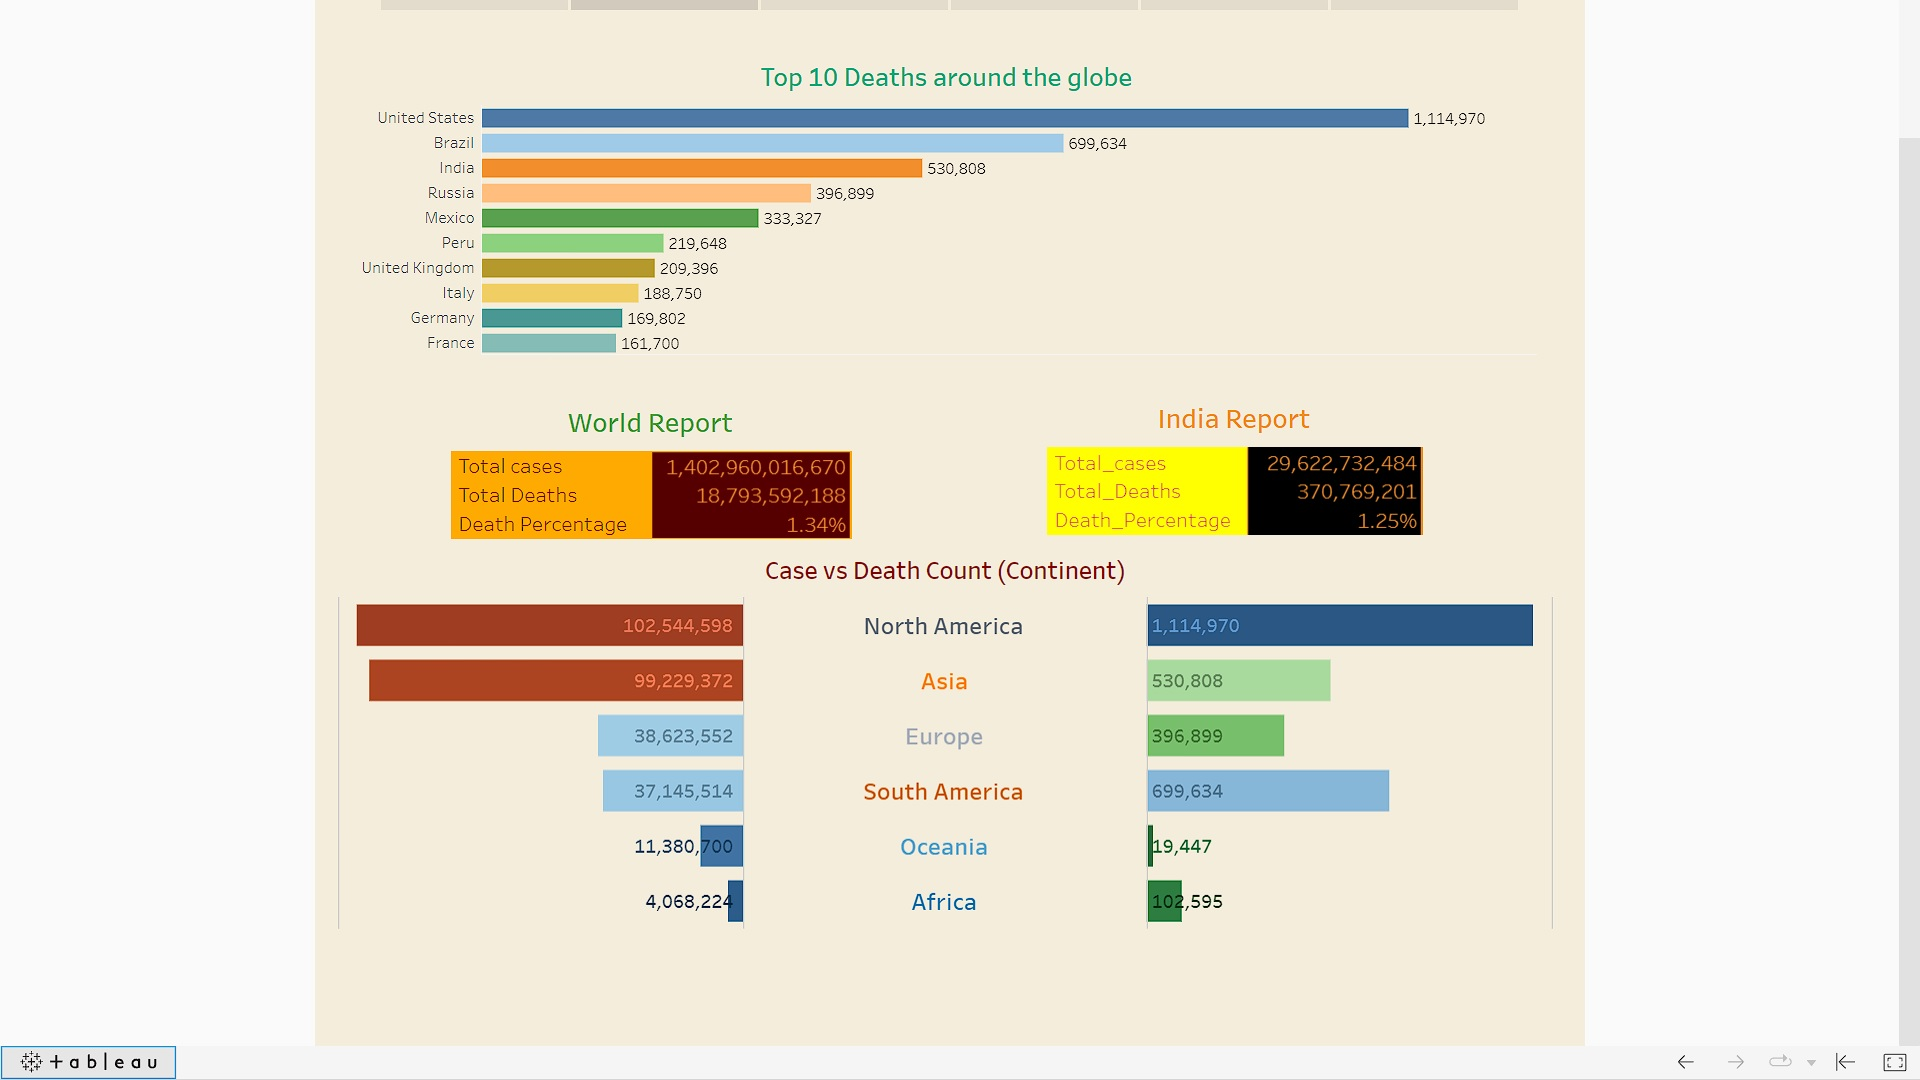

What the dashboard file says about the page in this screenshot:
{"tool":"tableau","page":{"name":"Dashboard 1","canvas":[1000,800],"ordinal":0},"visuals":[{"type":"worksheet","title":"Death Count","mark":"Automatic","rows":["Location"],"cols":["TotalDeathCount"],"box":[25,22,945,266]},{"type":"worksheet","title":"India","mark":"Automatic","box":[577,294,401,120]},{"type":"worksheet","title":"World","mark":"Automatic","box":[100,297,366,122]},{"type":"worksheet","title":"Case vs Death Count","mark":"Automatic","rows":["Continent"],"cols":["TotalCaseCount","Calculation_1441714843042181120","TotalDeathCount"],"box":[11,417,972,307]}]}

Visuals, with their boxes on the page's 1000x800 design canvas (x1, y1, x2, y2). These are canvas units, not pixel positions in the 1920x1080 screenshot, which may show the page scaled, cropped or inside an application window:
"Death Count" worksheet: box(25, 22, 970, 288)
"India" worksheet: box(577, 294, 978, 414)
"World" worksheet: box(100, 297, 466, 419)
"Case vs Death Count" worksheet: box(11, 417, 983, 724)
